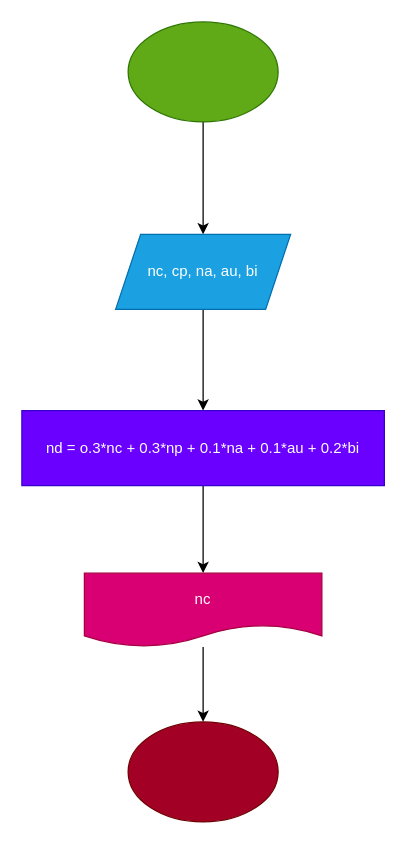
Image size: 406x844. Some labels were removed from this diagram. The box of each missing label's shape, as (x1, y1, x2, y2) in pixels:
FIN: (127, 721, 278, 822)
INICIO: (127, 21, 278, 122)
